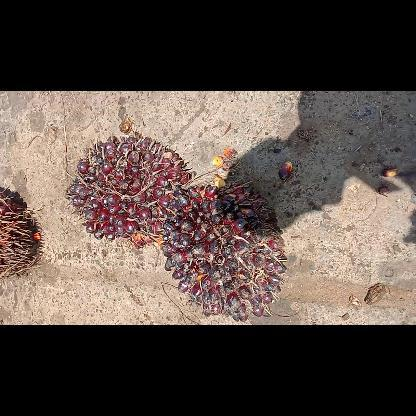Kurang masak: (158, 174, 288, 324), (65, 134, 195, 248)
